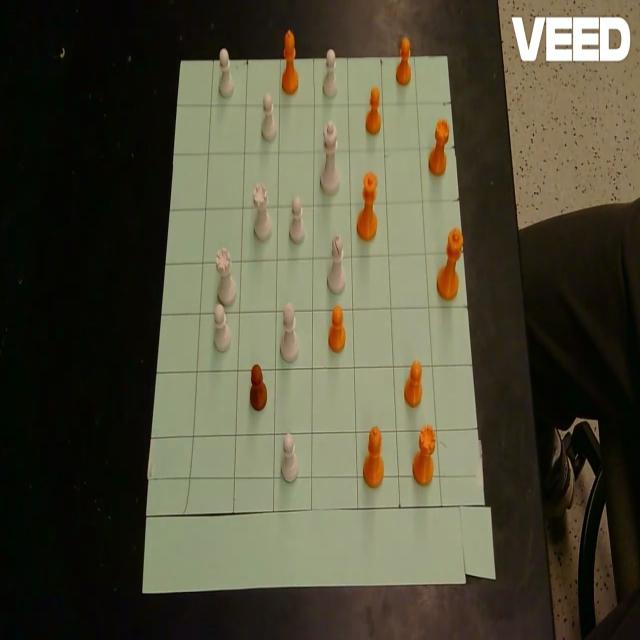orange_bishop: (364, 426, 384, 488), (282, 28, 298, 94)
orange_king: (436, 225, 464, 301)
orange_pawn: (403, 358, 422, 407), (328, 304, 346, 352), (250, 364, 268, 412), (396, 36, 412, 86), (365, 86, 381, 134)
orange_queen: (356, 170, 378, 241)
orange_rook: (412, 424, 436, 486), (428, 117, 449, 175)
white_bishop: (280, 302, 299, 362), (328, 234, 346, 294)
white_king: (320, 119, 340, 192)
white_pawn: (281, 432, 299, 483), (213, 302, 231, 352), (289, 194, 306, 243), (218, 47, 234, 97), (261, 91, 277, 141), (323, 47, 338, 97)
white_rook: (215, 244, 236, 306), (253, 181, 272, 241)
